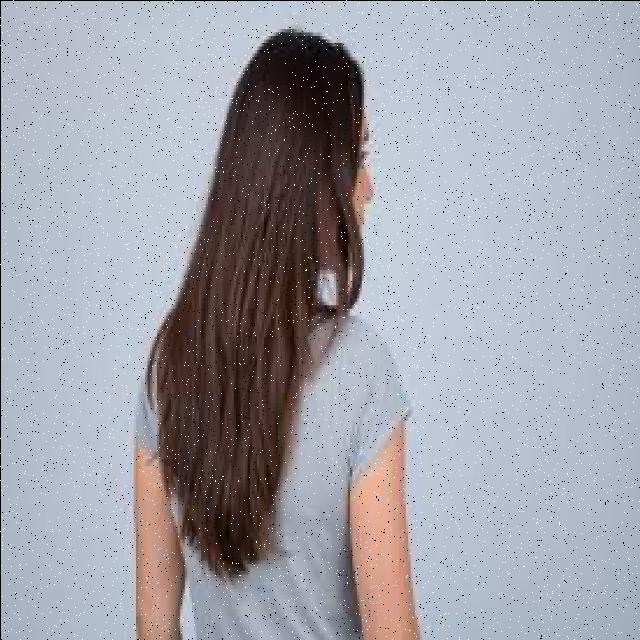Non_Helmet: (154, 14, 376, 330)
